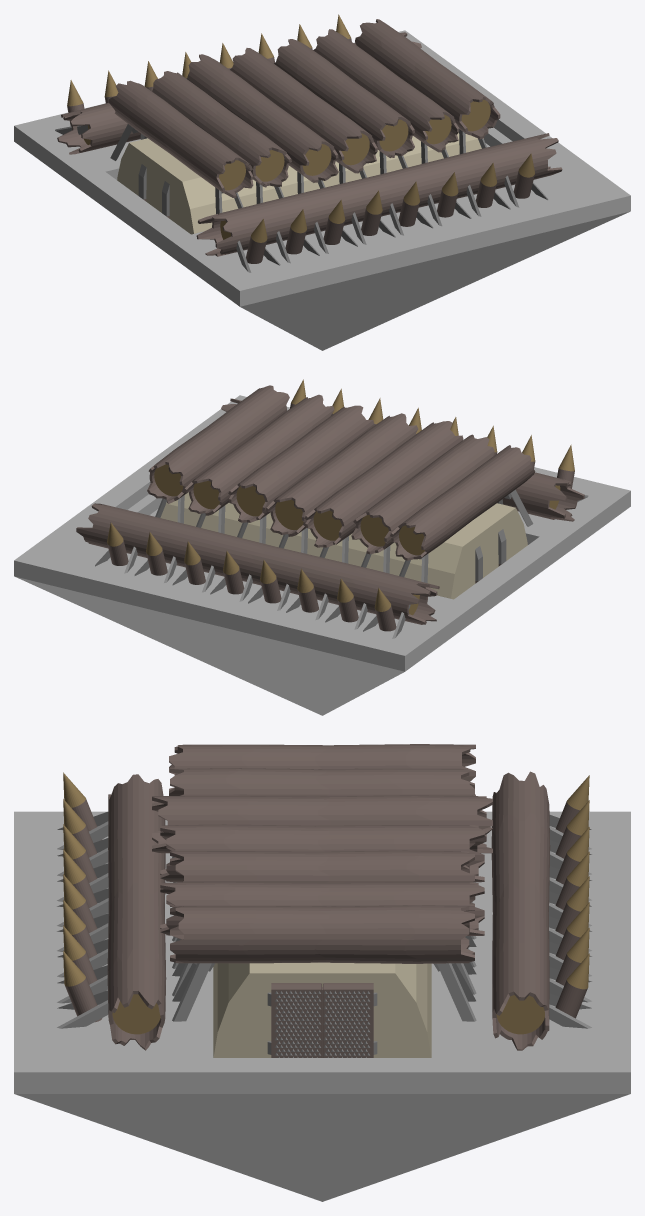
File: Building Bunker T1.fbx
3 views of the same model, one above another, from view 1: azimuth 30°, elevation 25°; view 2: azimuth 150°, elevation 25°; view 3: azimuth 270°, elevation 25° (orthographic). The views are drawn at different scales.
Parts seen in each view (by area): view 1: Bunker T1; view 2: Bunker T1; view 3: Bunker T1.
Boxes of the visible parts, left/top/right/bottom form: Bunker T1: left=14, top=14, right=630, bottom=350; Bunker T1: left=14, top=379, right=630, bottom=715; Bunker T1: left=14, top=744, right=630, bottom=1201.
Size of the model in its own units: 1599 by 1039 by 1599.
